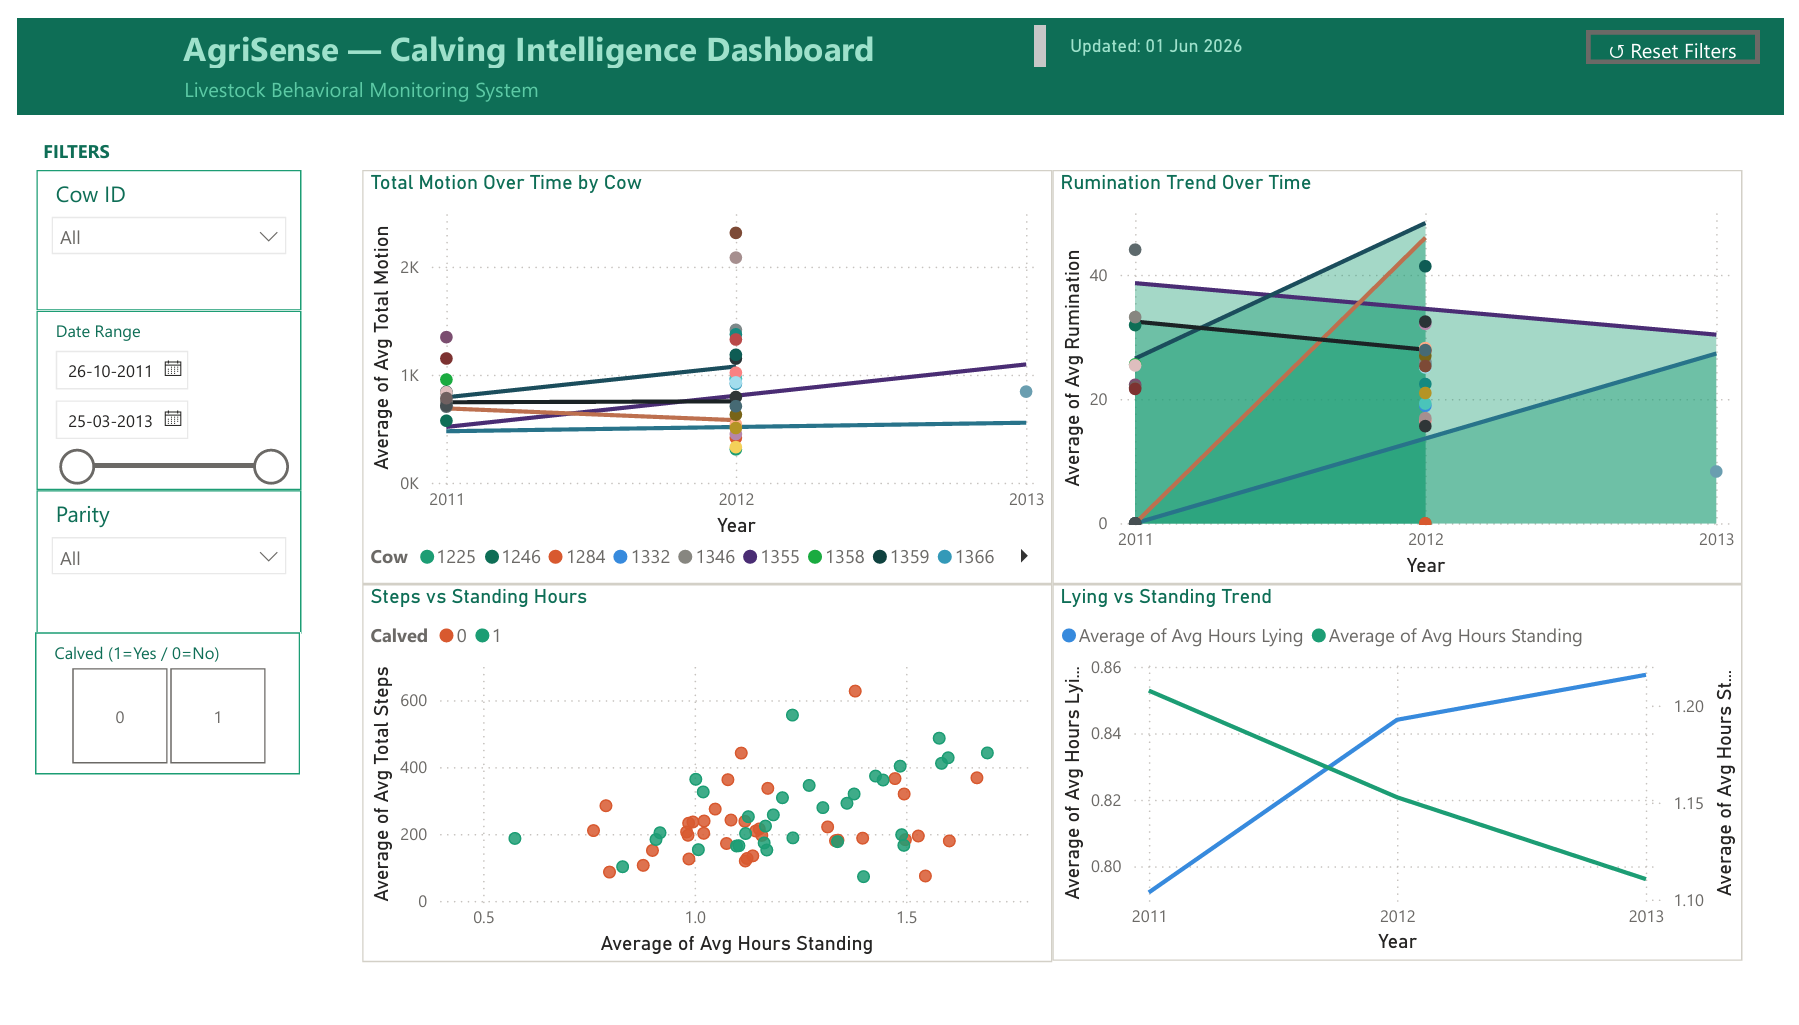

The page's visual inventory and layout, read from the dashboard file:
{"tool":"powerbi","page":{"name":"Behavioral Trends","canvas":[1280,720],"ordinal":1},"visuals":[{"type":"shape","box":[0,0,1280,70],"z":0},{"type":"textbox","box":[0,0,750,41.4],"z":1000},{"type":"textbox","box":[115.7,35.7,394.3,150],"z":2000},{"type":"card","fields":{"Values":["hour__1_1.Last Refreshed"]},"box":[750,2.9,151.4,35.7],"z":3000},{"type":"shape","box":[14,82,280,468],"z":4000},{"type":"actionButton","title":"Export PDF ","box":[1137,9,125,24],"z":6000},{"type":"slicer","title":"Cow ID","fields":{"Values":["hour__1_1.Cow"]},"box":[14,110,192,102],"z":7000},{"type":"slicer","title":"Cow ID","fields":{"Values":["hour__1_1.Date"]},"box":[14,212,192,130],"z":8000},{"type":"slicer","title":"Cow ID","fields":{"Values":["hour__1_1.Parity"]},"box":[14,342,192,104],"z":9000},{"type":"slicer","title":"Cow ID","fields":{"Values":["hour__1_1.Calved"]},"box":[13.3,445,191.7,103.3],"z":10000},{"type":"textbox","box":[14,82,194,28],"z":11000},{"type":"lineChart","title":"Total Motion Over Time by Cow","fields":{"Category":["hour__1_1.Date.Variation.Date Hierarchy.Year","hour__1_1.Date.Variation.Date Hierarchy.Quarter","hour__1_1.Date.Variation.Date Hierarchy.Month","hour__1_1.Date.Variation.Date Hierarchy.Day"],"Y":["Avg(hour__1_1.Avg Total Motion)"],"Series":["hour__1_1.Cow"]},"box":[250,110,500,300],"z":12000},{"type":"areaChart","title":"Rumination Trend Over Time","fields":{"Category":["hour__1_1.Date.Variation.Date Hierarchy.Year","hour__1_1.Date.Variation.Date Hierarchy.Quarter","hour__1_1.Date.Variation.Date Hierarchy.Month","hour__1_1.Date.Variation.Date Hierarchy.Day"],"Y":["Avg(hour__1_1.Avg Rumination)"],"Series":["hour__1_1.Cow"]},"box":[750,110,500,300],"z":13000},{"type":"scatterChart","title":"Steps vs Standing Hours","fields":{"X":["Avg(hour__1_1.Avg Hours Standing)"],"Y":["Avg(hour__1_1.Avg Total Steps)"],"Category":["hour__1_1.Cow"],"Series":["hour__1_1.Calved"]},"box":[250,410,500,274],"z":14000},{"type":"lineChart","title":"Lying vs Standing Trend","fields":{"Category":["hour__1_1.Date.Variation.Date Hierarchy.Year","hour__1_1.Date.Variation.Date Hierarchy.Quarter","hour__1_1.Date.Variation.Date Hierarchy.Month","hour__1_1.Date.Variation.Date Hierarchy.Day"],"Y":["Avg(hour__1_1.Avg Hours Lying)"],"Y2":["Avg(hour__1_1.Avg Hours Standing)"]},"box":[750,410,500,273.3],"z":15000}]}

Visuals, with their boxes in screenshot pixels (x1, y1, x2, y2), scaled from the page's 1280x720 canvas onto the 1799x1025 screenshot:
shape: {"left": 0, "top": 0, "right": 1798, "bottom": 100}
textbox: {"left": 0, "top": 0, "right": 1054, "bottom": 59}
textbox: {"left": 163, "top": 51, "right": 717, "bottom": 264}
card - hour__1_1.Last Refreshed: {"left": 1054, "top": 4, "right": 1267, "bottom": 55}
shape: {"left": 20, "top": 117, "right": 413, "bottom": 783}
"Export PDF " actionButton: {"left": 1598, "top": 13, "right": 1774, "bottom": 47}
"Cow ID" slicer: {"left": 20, "top": 157, "right": 290, "bottom": 302}
"Cow ID" slicer: {"left": 20, "top": 302, "right": 290, "bottom": 487}
"Cow ID" slicer: {"left": 20, "top": 487, "right": 290, "bottom": 635}
"Cow ID" slicer: {"left": 19, "top": 634, "right": 288, "bottom": 781}
textbox: {"left": 20, "top": 117, "right": 292, "bottom": 157}
"Total Motion Over Time by Cow" lineChart: {"left": 351, "top": 157, "right": 1054, "bottom": 584}
"Rumination Trend Over Time" areaChart: {"left": 1054, "top": 157, "right": 1757, "bottom": 584}
"Steps vs Standing Hours" scatterChart: {"left": 351, "top": 584, "right": 1054, "bottom": 974}
"Lying vs Standing Trend" lineChart: {"left": 1054, "top": 584, "right": 1757, "bottom": 973}
